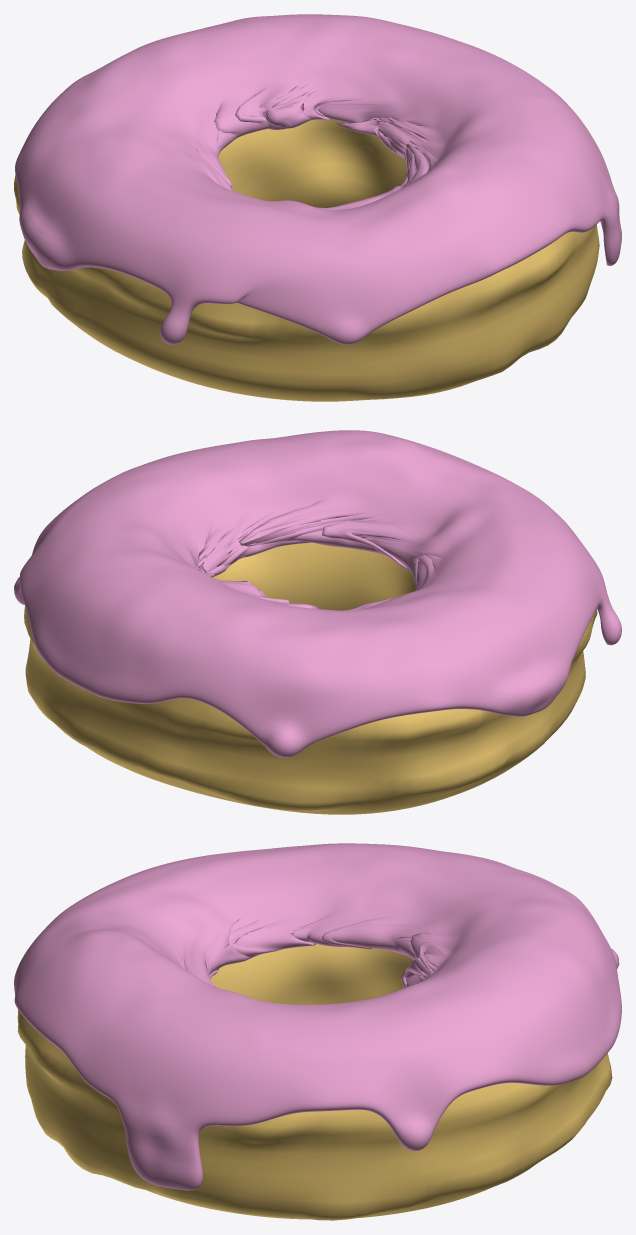
The model's file is donut.glb.
3 views of the same model, one above another, from view 1: azimuth 30°, elevation 25°; view 2: azimuth 150°, elevation 25°; view 3: azimuth 270°, elevation 25° (orthographic). The views are drawn at different scales.
Visible parts, largest first — view 1: Icing, Donut; view 2: Icing, Donut; view 3: Icing, Donut.
Part boxes in pixels (<box>): Icing: <box>15,14,621,344</box>; Donut: <box>14,119,599,401</box>; Icing: <box>14,430,621,757</box>; Donut: <box>24,542,597,814</box>; Icing: <box>14,843,621,1190</box>; Donut: <box>17,944,612,1220</box>.
Size of what is drawn, in the model's own units: 0.1507 by 0.0571 by 0.1497.
